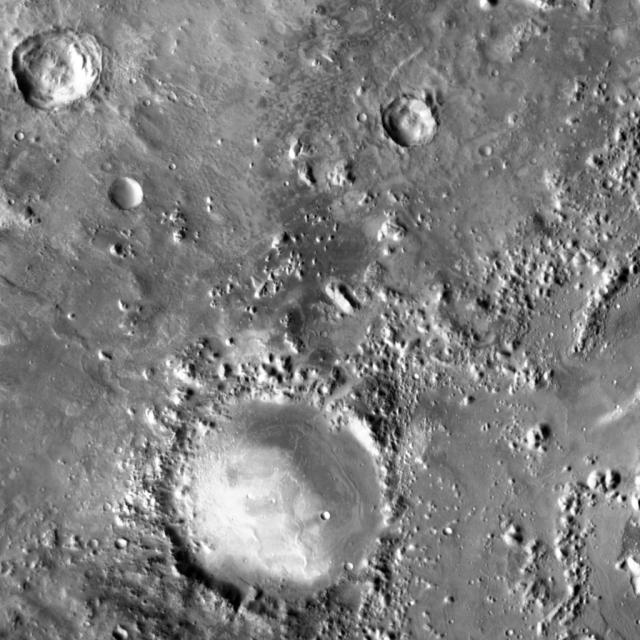crater: (156, 381, 404, 611), (18, 28, 106, 109), (295, 291, 370, 361), (386, 96, 444, 150), (115, 178, 151, 212), (115, 630, 129, 640), (180, 232, 190, 242), (363, 113, 373, 123), (450, 528, 460, 538), (609, 179, 619, 189), (488, 148, 498, 157), (107, 161, 117, 170), (122, 541, 132, 549), (530, 294, 540, 302), (532, 300, 542, 308), (328, 513, 337, 521), (96, 540, 105, 548), (174, 92, 183, 100), (325, 330, 334, 338), (23, 132, 31, 140), (108, 502, 116, 510), (345, 557, 353, 564), (329, 10, 336, 18), (605, 82, 613, 89), (577, 132, 584, 140), (120, 446, 128, 453), (129, 479, 137, 486), (506, 288, 513, 296), (504, 621, 512, 628), (80, 631, 88, 638), (490, 62, 497, 69), (142, 92, 149, 99), (474, 228, 481, 234), (448, 216, 455, 222), (168, 156, 175, 162)
